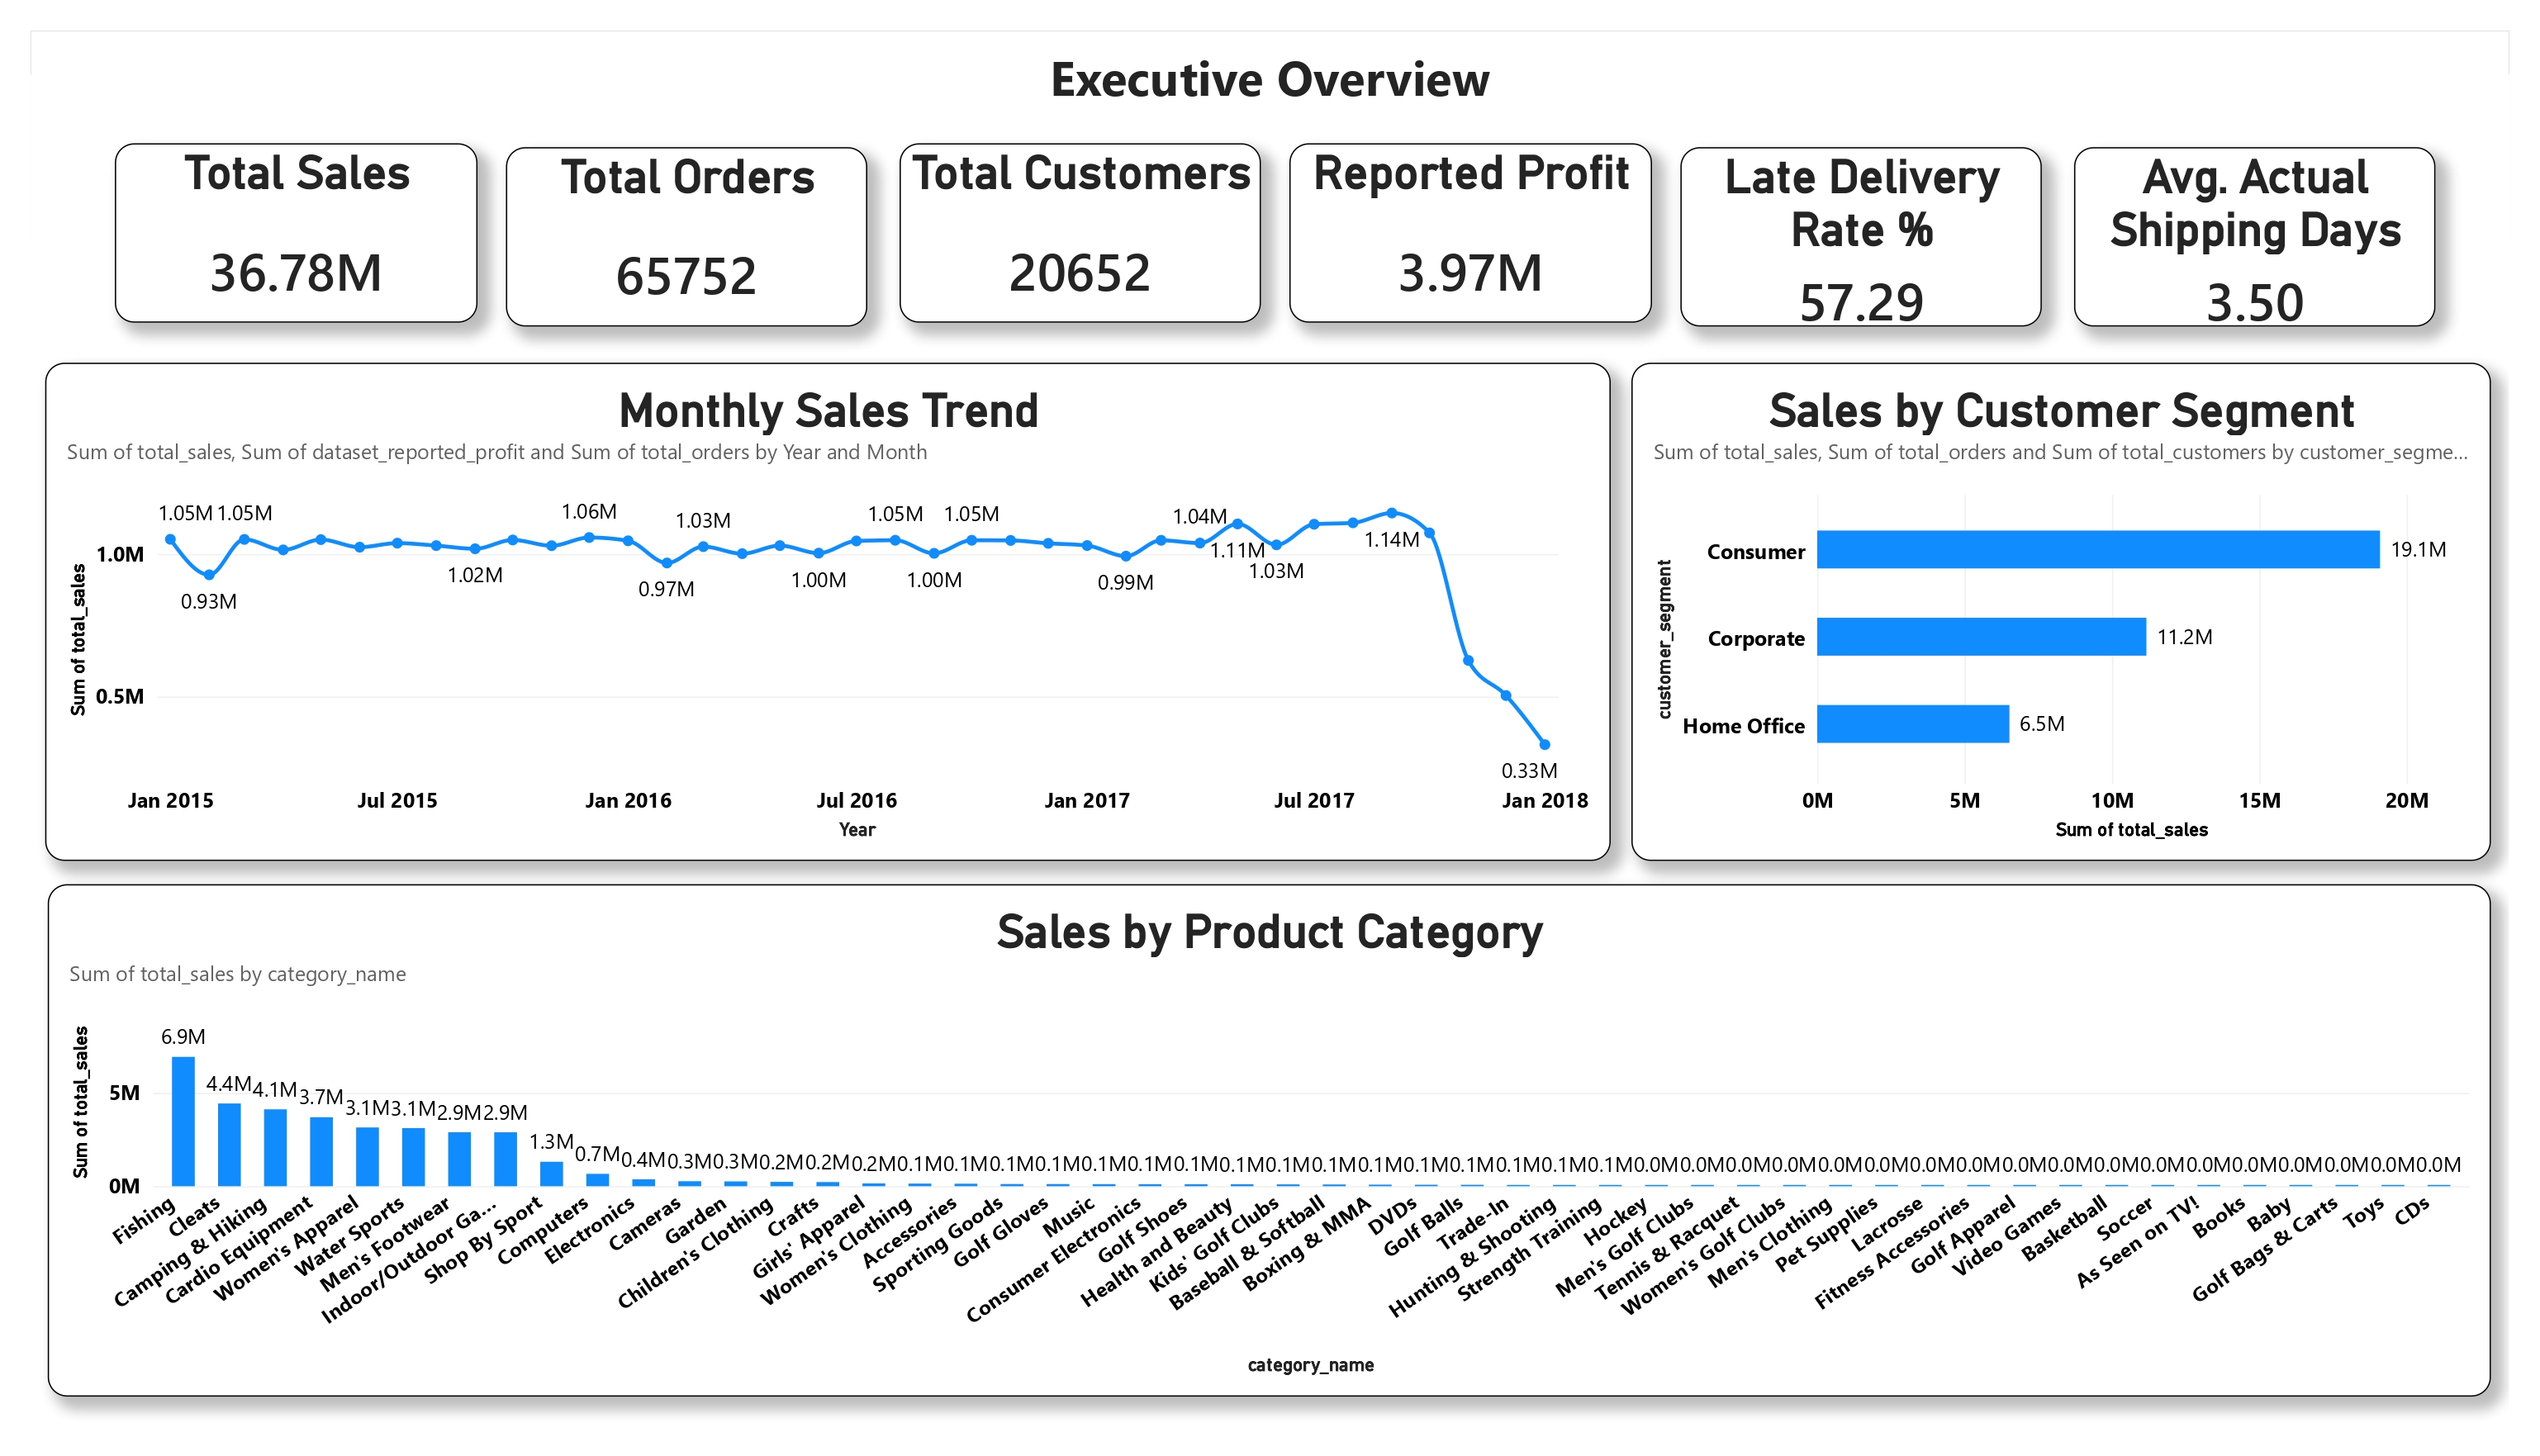

Layout of this report page (visuals, bound fields, positions):
{"tool":"powerbi","page":{"name":"Executive Overview","canvas":[1920,1080],"ordinal":0},"visuals":[{"type":"cardVisual","title":"Total Sales","fields":{"Data":["Sum(mart vw_executive_kpis.total_sales)"]},"box":[65.2,87.4,280.6,139.1],"z":0},{"type":"textbox","box":[753.9,9.8,412.3,80.5],"z":1000},{"type":"cardVisual","title":"Total Orders","fields":{"Data":["Sum(mart vw_executive_kpis.total_orders)"]},"box":[367.7,89.8,280.6,139.1],"z":2000},{"type":"cardVisual","title":"Total Customers","fields":{"Data":["Sum(mart vw_executive_kpis.total_customers)"]},"box":[672.7,87.4,280.6,139.1],"z":3000},{"type":"cardVisual","title":"Reported Profit","fields":{"Data":["Sum(mart vw_executive_kpis.dataset_reported_profit)"]},"box":[975.2,87.4,280.6,139.1],"z":4000},{"type":"cardVisual","title":"Late Delivery Rate %","fields":{"Data":["Sum(mart vw_executive_kpis.late_delivery_rate_excluding_canceled_pct)"]},"box":[1277.8,89.8,280.6,139.1],"z":5000},{"type":"cardVisual","title":"Avg. Actual Shipping Days","fields":{"Data":["Sum(mart vw_executive_kpis.avg_actual_shipping_days)"]},"box":[1582.8,89.8,280.6,139.1],"z":6000},{"type":"lineChart","title":"Monthly Sales Trend","fields":{"Category":["mart vw_monthly_performance.order_month.Variation.Date Hierarchy.Year","mart vw_monthly_performance.order_month.Variation.Date Hierarchy.Month"],"Y":["Sum(mart vw_monthly_performance.total_sales)"]},"box":[11.4,256.7,1212.9,386.1],"z":7000},{"type":"clusteredBarChart","title":"Sales by Customer Segment","fields":{"Category":["mart vw_customer_segment_performance.customer_segment"],"Y":["Sum(mart vw_customer_segment_performance.total_sales)"]},"box":[1240.1,256.7,665.5,386.1],"z":8000},{"type":"clusteredColumnChart","title":"Sales by Product Category","fields":{"Category":["mart vw_product_performance.category_name"],"Y":["Sum(mart vw_product_performance.total_sales)"]},"box":[13.5,661.3,1892.1,396.8],"z":9000}]}

Visuals, with their boxes on the page's 1920x1080 design canvas (x1, y1, x2, y2). These are canvas units, not pixel positions in the 2540x1456 screenshot, which may show the page scaled, cropped or inside an application window:
"Total Sales" cardVisual: x1=65 y1=87 x2=346 y2=226
textbox: x1=754 y1=10 x2=1166 y2=90
"Total Orders" cardVisual: x1=368 y1=90 x2=648 y2=229
"Total Customers" cardVisual: x1=673 y1=87 x2=953 y2=226
"Reported Profit" cardVisual: x1=975 y1=87 x2=1256 y2=226
"Late Delivery Rate %" cardVisual: x1=1278 y1=90 x2=1558 y2=229
"Avg. Actual Shipping Days" cardVisual: x1=1583 y1=90 x2=1863 y2=229
"Monthly Sales Trend" lineChart: x1=11 y1=257 x2=1224 y2=643
"Sales by Customer Segment" clusteredBarChart: x1=1240 y1=257 x2=1906 y2=643
"Sales by Product Category" clusteredColumnChart: x1=14 y1=661 x2=1906 y2=1058
